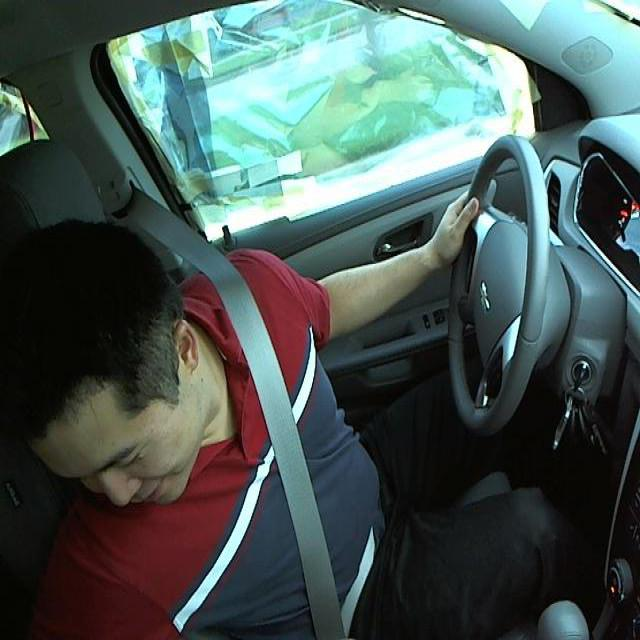seatbelt: (238, 352, 379, 621)
